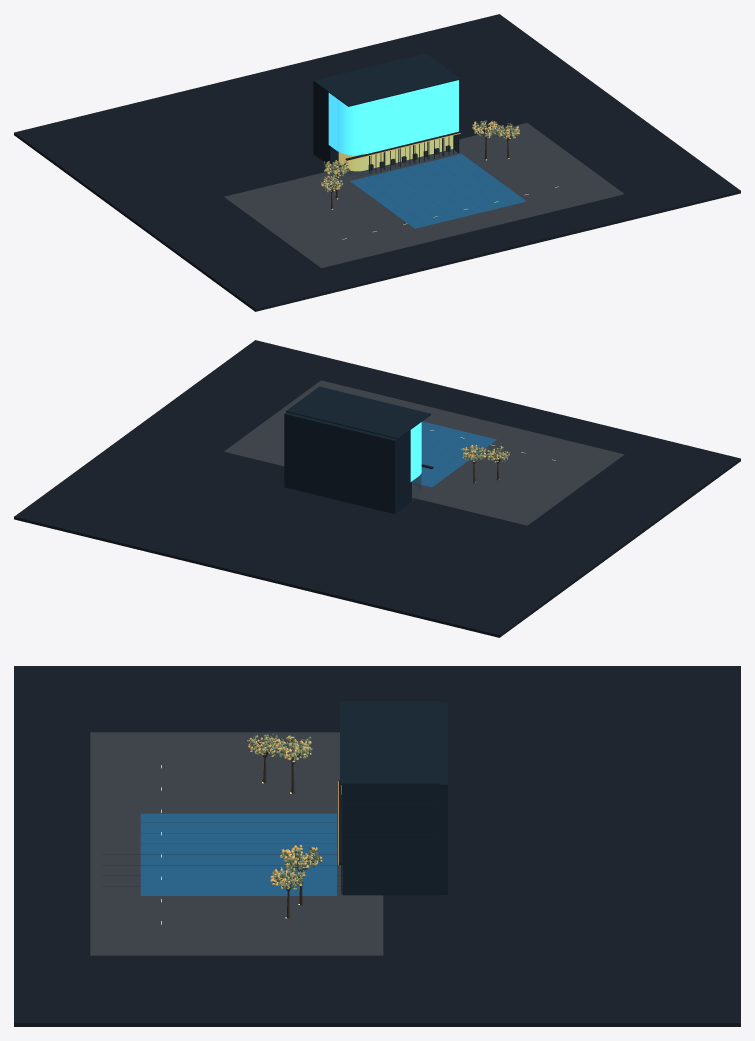
The model's file is curved_dot_facade.glb.
The picture shows the model from 3 angles, top to bottom: view 1: azimuth 30°, elevation 25°; view 2: azimuth 150°, elevation 25°; view 3: azimuth 270°, elevation 25°; orthographic projection. The views are drawn at different scales.
Visible parts, largest first — view 1: CITY_GROUND, WET_PLAZA, MEDIA_REFLECTION, LED_DOT_FACADE, ROOF_CAP, GLASS_LOBBY, REAR_BUILDING, LOBBY_INTERIOR; view 2: CITY_GROUND, WET_PLAZA, REAR_BUILDING, ROOF_CAP, MEDIA_REFLECTION, LED_DOT_FACADE; view 3: CITY_GROUND, WET_PLAZA, MEDIA_REFLECTION, RIGHT_RETURN, ROOF_CAP, REAR_BUILDING, TREE_0_FOLIAGE, TREE_2_FOLIAGE, TREE_3_FOLIAGE.
Part boxes in pixels (x1,y1,x2,y2): CITY_GROUND: (14,14,740,311); WET_PLAZA: (224,123,624,268); MEDIA_REFLECTION: (350,154,526,228); LED_DOT_FACADE: (328,80,458,155); ROOF_CAP: (315,54,460,106); GLASS_LOBBY: (331,135,457,175); REAR_BUILDING: (313,53,424,164); LOBBY_INTERIOR: (338,135,453,171); CITY_GROUND: (14,340,740,637); WET_PLAZA: (224,380,624,525); REAR_BUILDING: (284,412,411,514); ROOF_CAP: (286,386,431,438); MEDIA_REFLECTION: (412,421,496,487); LED_DOT_FACADE: (410,422,421,481); CITY_GROUND: (14,666,740,1026); WET_PLAZA: (90,732,383,955); MEDIA_REFLECTION: (140,813,336,895); RIGHT_RETURN: (342,785,440,895); ROOF_CAP: (340,701,440,784); REAR_BUILDING: (440,703,447,894); TREE_0_FOLIAGE: (274,735,312,762); TREE_2_FOLIAGE: (280,844,322,869); TREE_3_FOLIAGE: (270,863,306,889).
Bounding box in the file's own units: 72 × 10.99 × 62.
